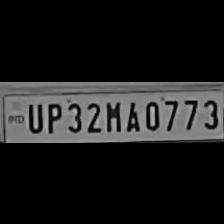0: (142, 97, 160, 131)
2: (84, 97, 102, 132)
3: (199, 96, 219, 128), (64, 97, 82, 132)
7: (178, 96, 198, 130), (161, 96, 179, 130)
A: (124, 96, 140, 132)
M: (103, 97, 123, 133)
P: (44, 98, 62, 134)
U: (24, 99, 42, 133)
